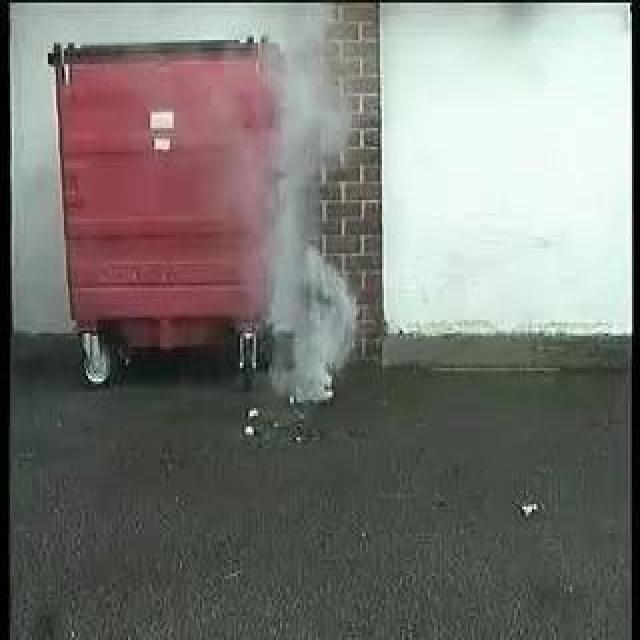Smoke: (249, 91, 357, 400)
